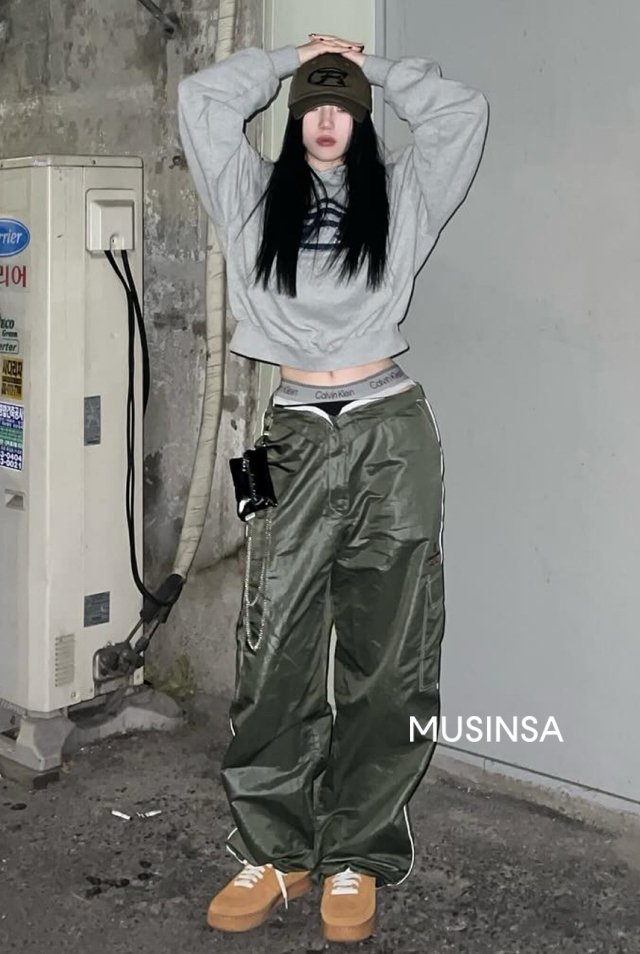Cap: (281, 49, 374, 116)
Pants: (221, 386, 453, 864)
Shoes: (202, 856, 390, 944)
Sweatshirt: (224, 149, 419, 368)
